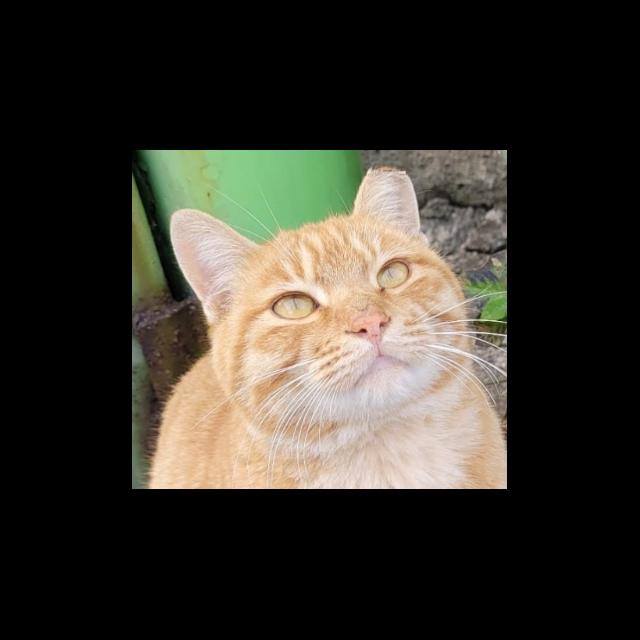animals: (158, 158, 474, 454)
